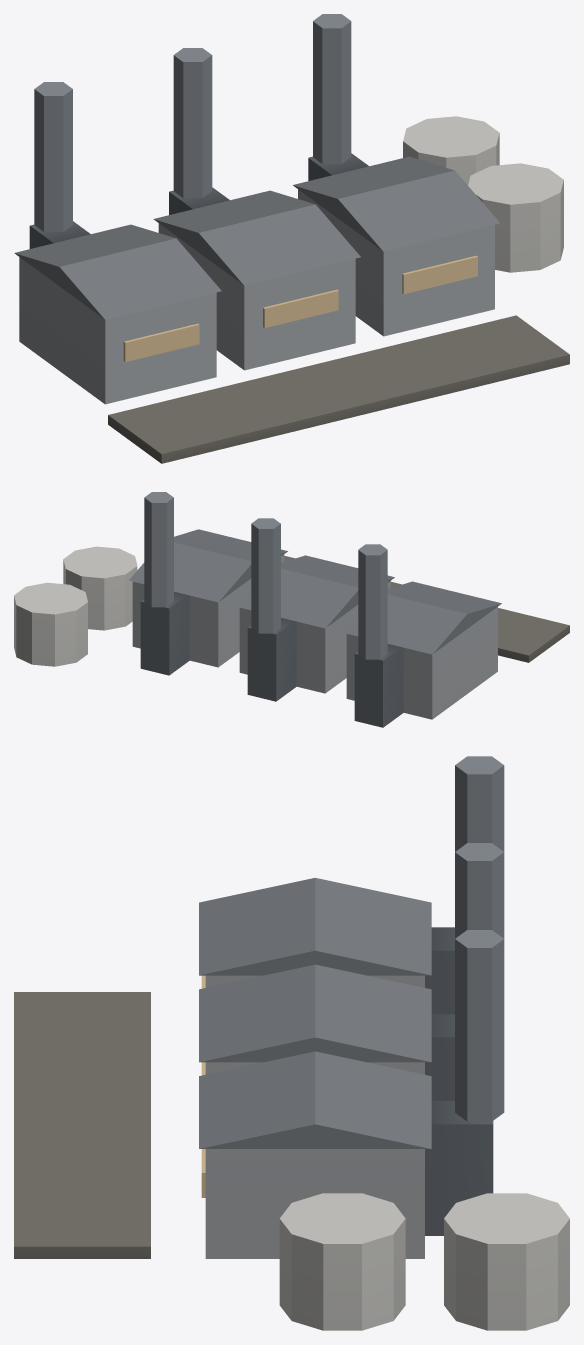
Rendered from plant_peaker_l2.fbx.
The picture shows the model from 3 angles, top to bottom: view 1: azimuth 30°, elevation 25°; view 2: azimuth 150°, elevation 25°; view 3: azimuth 270°, elevation 25°; orthographic projection. The views are drawn at different scales.
Visible parts, largest first — view 1: plant_peaker_l2; view 2: plant_peaker_l2; view 3: plant_peaker_l2.
Boxes of the visible parts, box(x1,y1,x2,y2) form: plant_peaker_l2: box(14, 14, 569, 463); plant_peaker_l2: box(14, 492, 569, 727); plant_peaker_l2: box(14, 756, 569, 1330).
Size of the model in its own units: 56.37 by 23 by 40.6.
